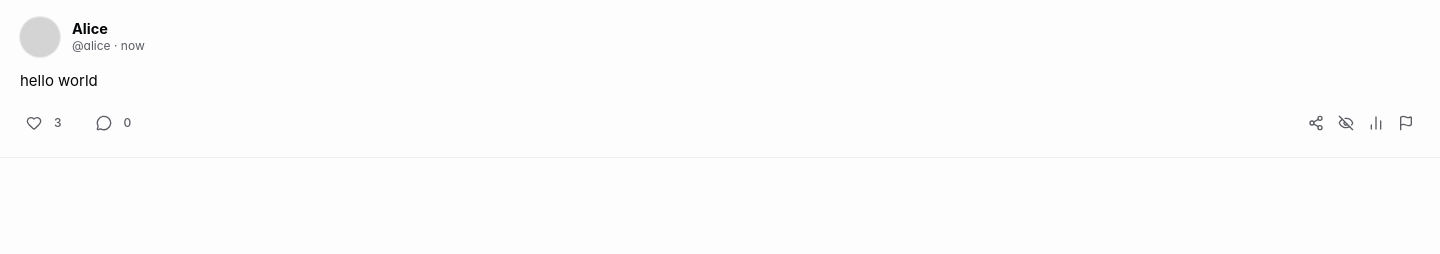
it: PostCard insights › fetches and renders insights once expanded
The width and height of the screenshot is (1440, 254).
Click the button titled "View insights" at coordinates (1376, 123), box [1362, 109, 1390, 137]
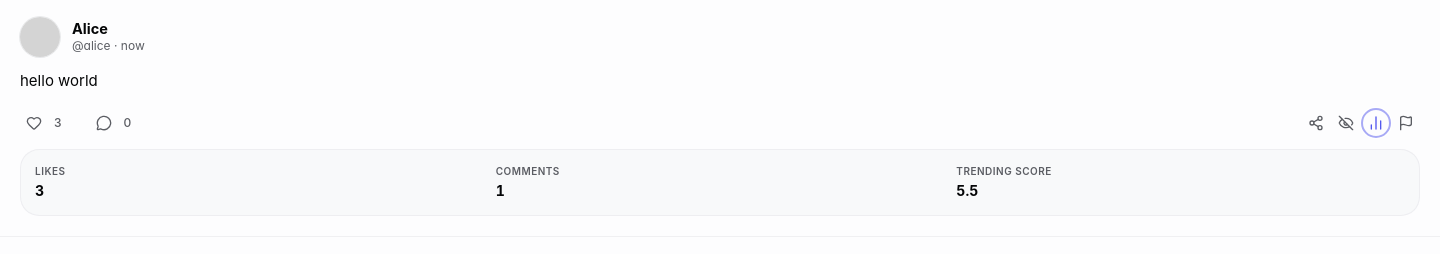
Expected: the text "5.5" is shown, [956, 182, 978, 199]
